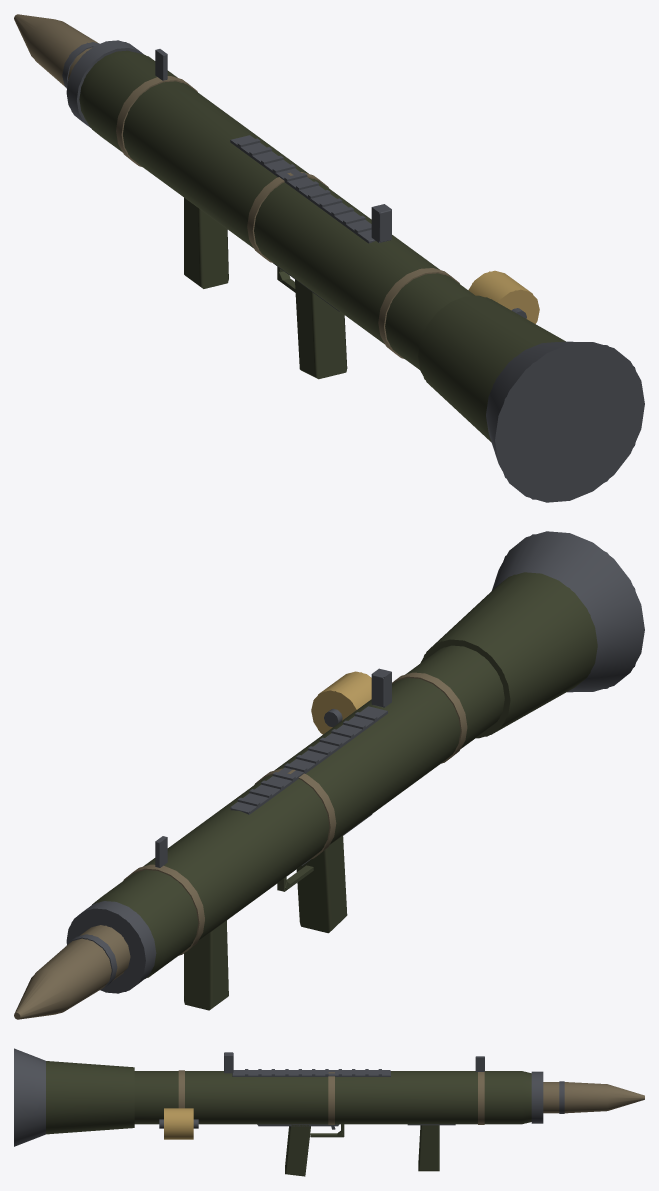
The model's file is la_wire.glb.
The picture shows the model from 3 angles, top to bottom: view 1: azimuth 30°, elevation 25°; view 2: azimuth 150°, elevation 25°; view 3: azimuth 270°, elevation 25°; orthographic projection. The views are drawn at different scales.
Parts seen in each view (by area): view 1: L0, L1; view 2: L0, L1; view 3: L0, L1.
Part boxes in pixels (x1,y1,x2,y2): L0: (14,14,644,502); L1: (15,14,644,500); L0: (14,531,644,1019); L1: (14,534,635,1019); L0: (14,1048,644,1176); L1: (14,1048,644,1146).
Size of the model in its own units: 0.2175 by 0.2475 by 1.18.
